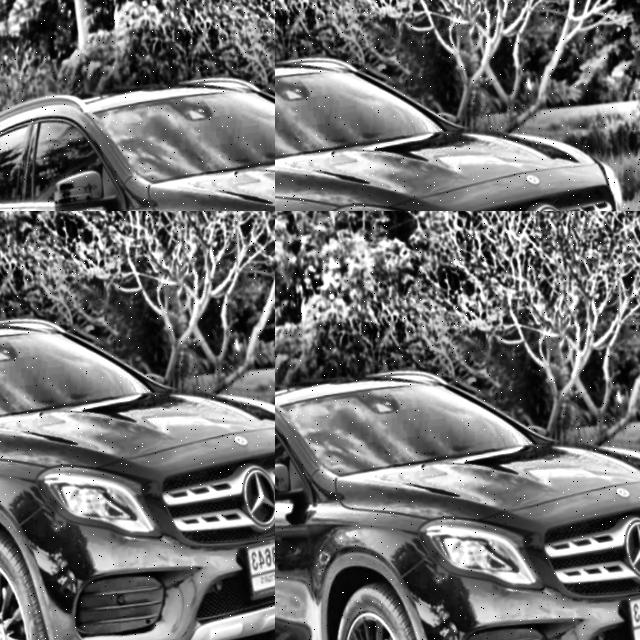license-plate: (141, 143, 275, 211), (621, 576, 640, 640)
